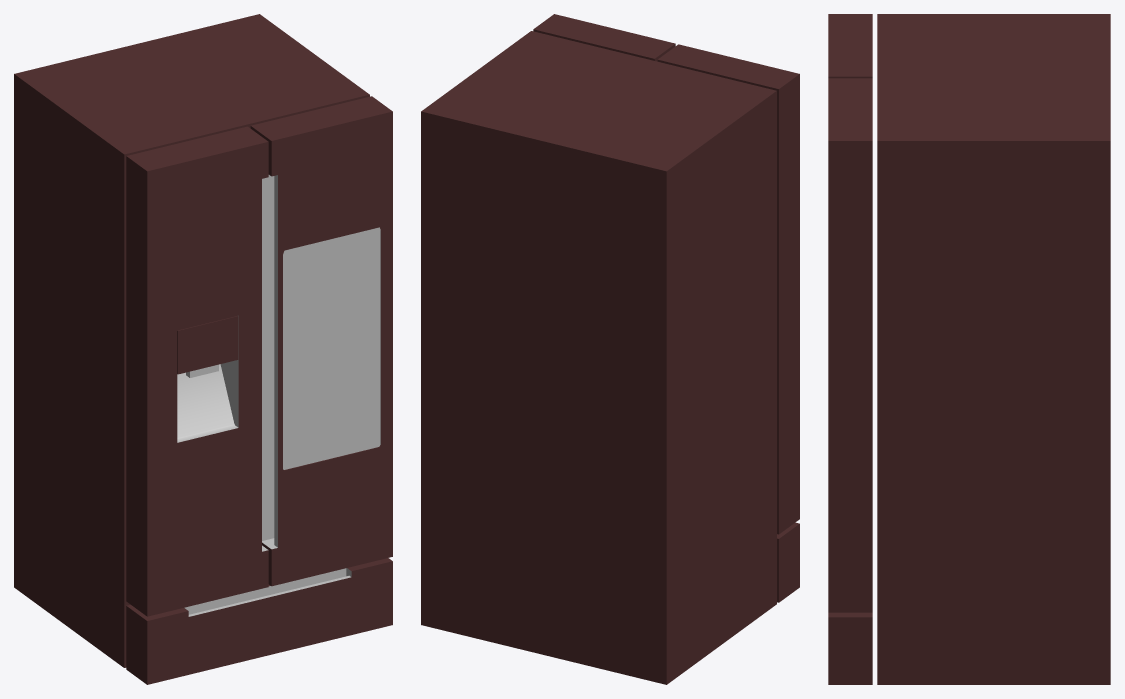
3 views of the same model, side by side, from view 1: azimuth 30°, elevation 25°; view 2: azimuth 150°, elevation 25°; view 3: azimuth 270°, elevation 25° (orthographic). The views are drawn at different scales.
Visible parts, largest first — view 1: Geode; view 2: Geode; view 3: Geode.
Part boxes in pixels (box(x1,y1,x2,y2)): Geode: box(14, 14, 392, 684); Geode: box(421, 14, 799, 684); Geode: box(828, 14, 1110, 684).
Bounding box in the file's own units: 2 × 4 × 1.88.
